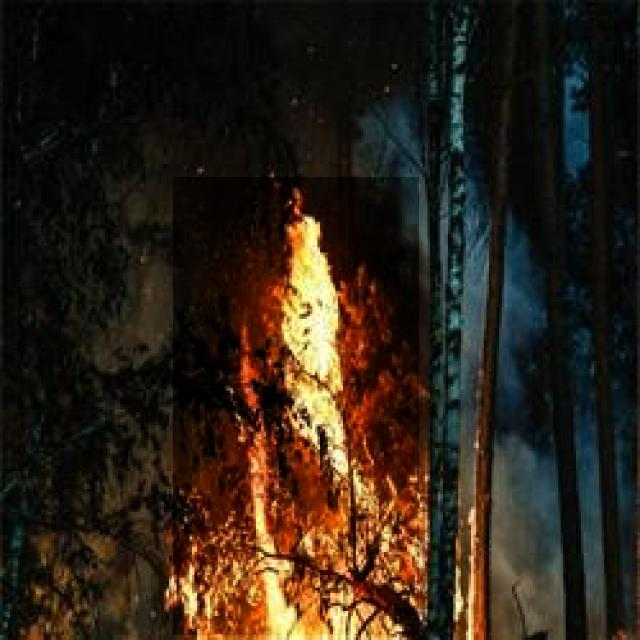Fire: (173, 178, 419, 636)
